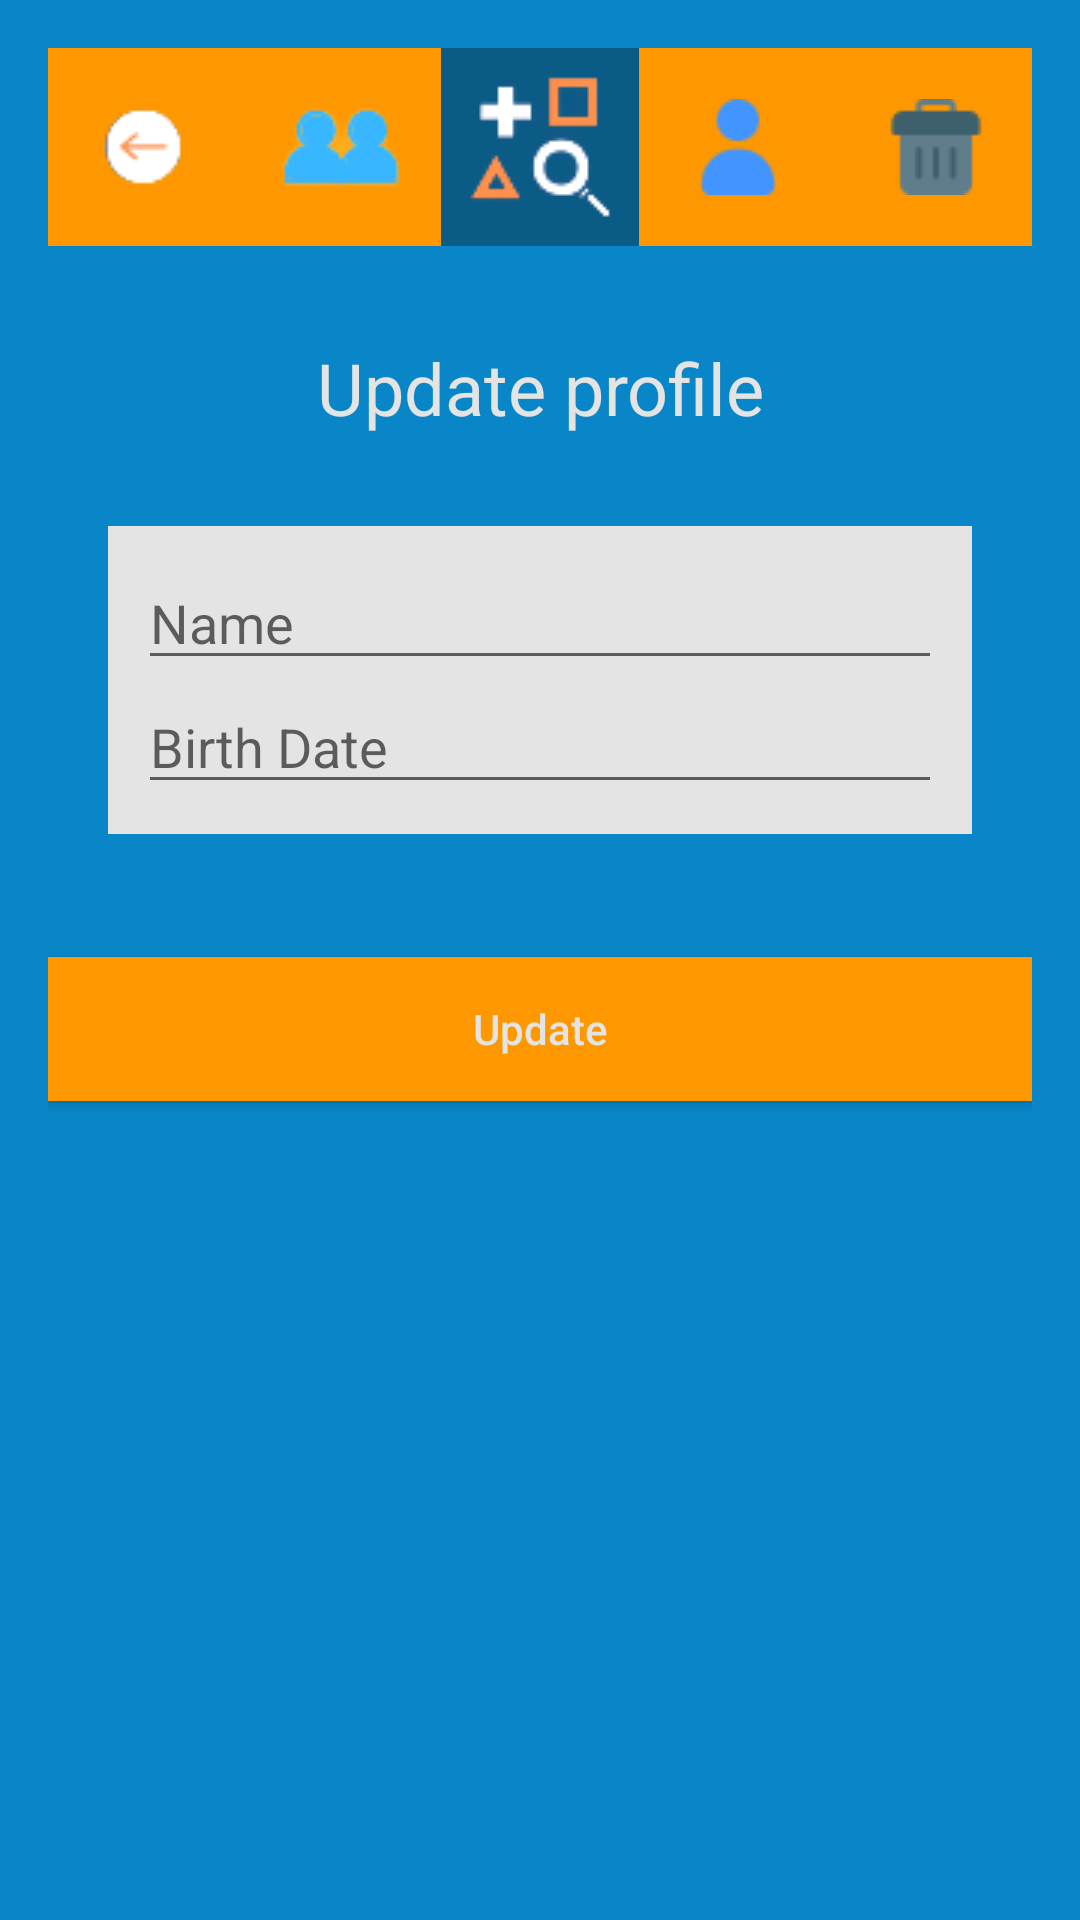

Point at icon controls on the screen. Image size 1080x1920, points as point (x, y).
button profile description: point (738, 147)
delete button: point (934, 147)
profiles button: point (342, 147)
return button: point (145, 147)
